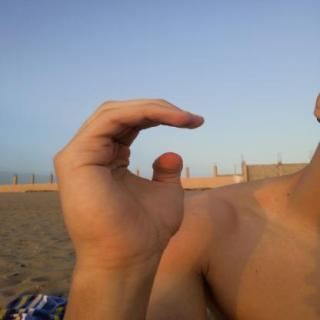JEEM: (36, 87, 218, 265)
